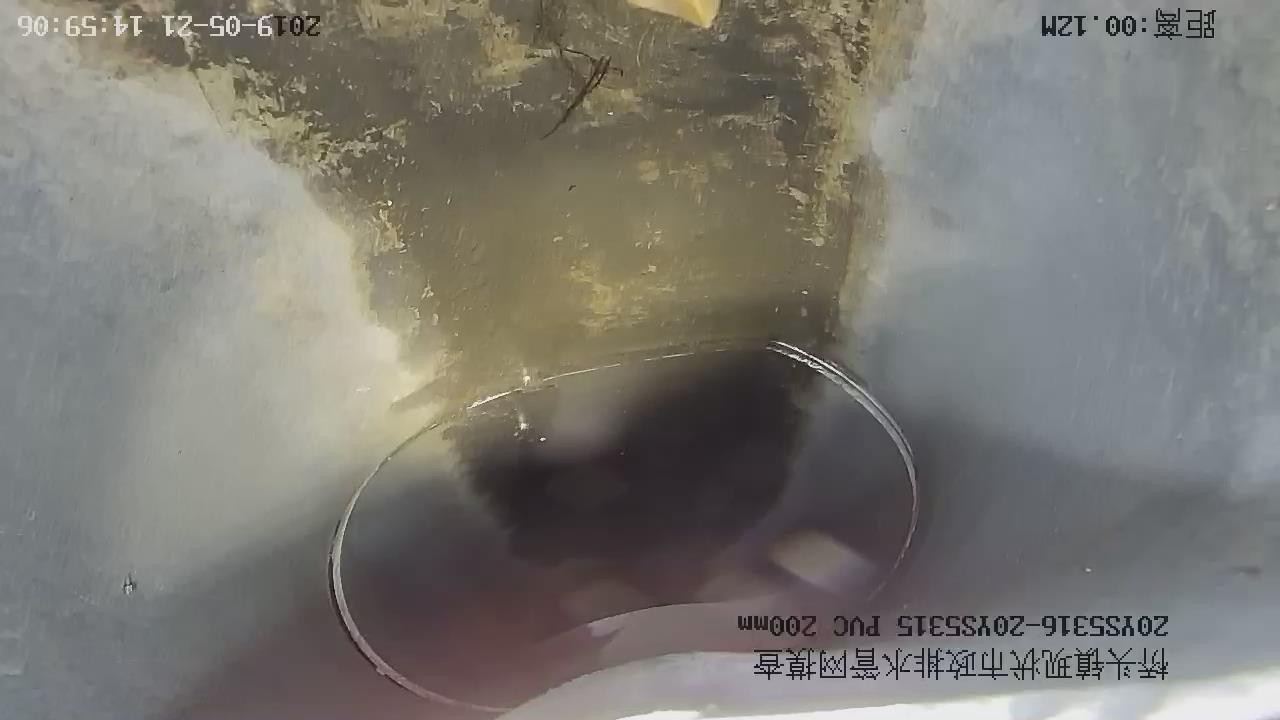BX: (419, 602, 872, 717)
CJ: (131, 1, 895, 560)
CKTJ: (328, 422, 501, 710), (768, 342, 918, 566), (473, 387, 527, 405)
